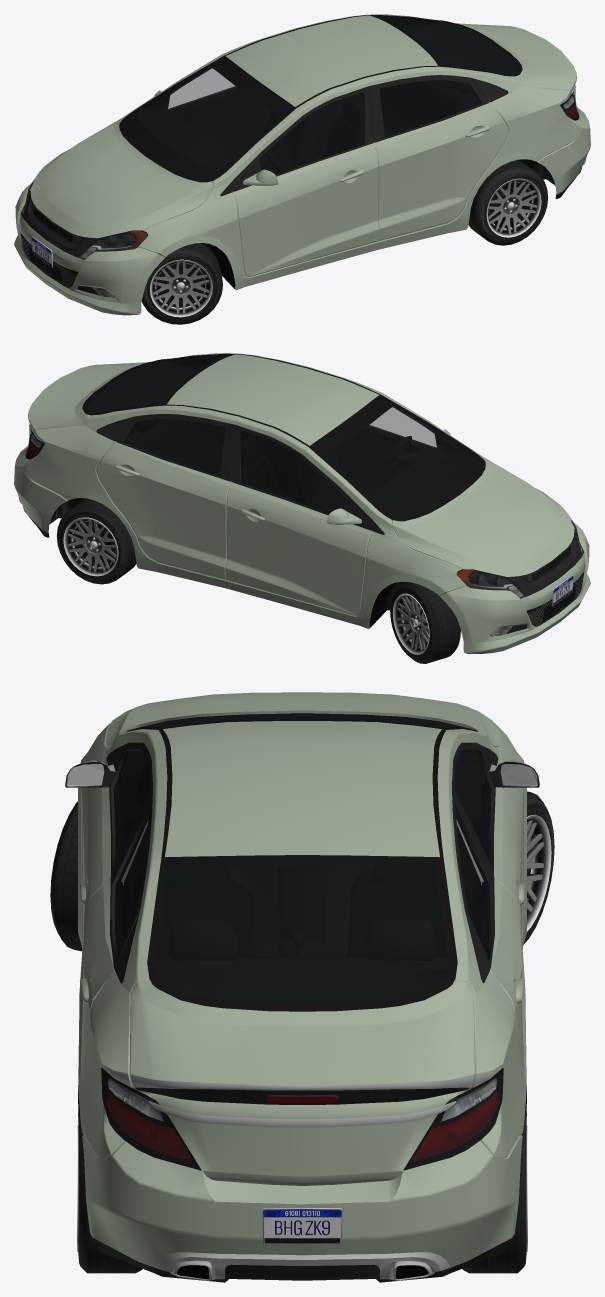
The model's file is generic_sedan_10_-_low_poly_model.glb.
3 renders of one model, top to bottom at view 1: azimuth 30°, elevation 25°; view 2: azimuth 150°, elevation 25°; view 3: azimuth 270°, elevation 25°, orthographic. The views are drawn at different scales.
Visible parts, largest first — view 1: Kiri10_body_Kiri10_body_0, Kiri10_interior_UCB_BOTTOM_LT_0, Kiri10_Bottom_UCB_BOTTOM_LT_0, Kiri10_glass_Body_UCB_GLASS_CLEAN_0, Kiri10_Windshield_UCB_GLASS_CLEAN_0, Kiri10_Wheel_RL_RB1c_Tire_0, Kiri10_Wheel_FL_RB1c_Tire_0, Kiri10_Glass_Rear_UCB_GLASS_CLEAN_0, Kiri10_Bumper_Front_Inner_UCB_BOTTOM_LT_0; view 2: Kiri10_body_Kiri10_body_0, Kiri10_interior_UCB_BOTTOM_LT_0, Kiri10_Bottom_UCB_BOTTOM_LT_0, Kiri10_glass_Body_UCB_GLASS_CLEAN_0, Kiri10_Windshield_UCB_GLASS_CLEAN_0, Kiri10_Wheel_RR_RB1c_Tire_0, Kiri10_Wheel_FR_RB1c_Tire_0, Kiri10_Glass_Rear_UCB_GLASS_CLEAN_0, Kiri10_Bumper_Front_Inner_UCB_BOTTOM_LT_0; view 3: Kiri10_body_Kiri10_body_0, Kiri10_interior_UCB_BOTTOM_LT_0, Kiri10_Glass_Rear_UCB_GLASS_CLEAN_0, Kiri10_Bottom_UCB_BOTTOM_LT_0, Kiri10_glass_Body_UCB_GLASS_CLEAN_0, Kiri10_Stoplights_thunderbolt96_Headlights_0, Kiri10_Bumper_Rear_Inner_UCB_BOTTOM_LT_0, Kiri10_Wheel_FL_RB1c_Tire_0, Kiri10_Wheel_FR_RB1c_Tire_0, Kiri10_Numberplate_Rear_Numberplates_Generic_USA_0, Kiri10_Wheel_RL_RB1c_Tire_0, Kiri10_Wheel_RR_RB1c_Tire_0 (+2 smaller).
Boxes of the visible parts, x1,y1,x2,y2 form: Kiri10_body_Kiri10_body_0: (14,14,590,315); Kiri10_interior_UCB_BOTTOM_LT_0: (137,16,522,258); Kiri10_Bottom_UCB_BOTTOM_LT_0: (20,15,586,288); Kiri10_glass_Body_UCB_GLASS_CLEAN_0: (168,69,480,174); Kiri10_Windshield_UCB_GLASS_CLEAN_0: (21,67,278,258); Kiri10_Wheel_RL_RB1c_Tire_0: (468,160,548,245); Kiri10_Wheel_FL_RB1c_Tire_0: (141,243,222,324); Kiri10_Glass_Rear_UCB_GLASS_CLEAN_0: (377,16,578,120); Kiri10_Bumper_Front_Inner_UCB_BOTTOM_LT_0: (20,190,114,297); Kiri10_body_Kiri10_body_0: (14,353,590,653); Kiri10_interior_UCB_BOTTOM_LT_0: (82,355,467,597); Kiri10_Bottom_UCB_BOTTOM_LT_0: (18,354,584,627); Kiri10_glass_Body_UCB_GLASS_CLEAN_0: (124,407,436,512); Kiri10_Windshield_UCB_GLASS_CLEAN_0: (326,406,583,597); Kiri10_Wheel_RR_RB1c_Tire_0: (56,498,136,584); Kiri10_Wheel_FR_RB1c_Tire_0: (390,582,460,663); Kiri10_Glass_Rear_UCB_GLASS_CLEAN_0: (25,355,228,458); Kiri10_Bumper_Front_Inner_UCB_BOTTOM_LT_0: (490,529,584,636); Kiri10_body_Kiri10_body_0: (76,692,528,1267); Kiri10_interior_UCB_BOTTOM_LT_0: (113,713,491,1088); Kiri10_Glass_Rear_UCB_GLASS_CLEAN_0: (101,861,503,1169); Kiri10_Bottom_UCB_BOTTOM_LT_0: (65,713,539,1280); Kiri10_glass_Body_UCB_GLASS_CLEAN_0: (114,750,490,953); Kiri10_Stoplights_thunderbolt96_Headlights_0: (101,1068,503,1169); Kiri10_Bumper_Rear_Inner_UCB_BOTTOM_LT_0: (92,1237,512,1282); Kiri10_Wheel_FL_RB1c_Tire_0: (50,801,82,951); Kiri10_Wheel_FR_RB1c_Tire_0: (523,791,554,944); Kiri10_Numberplate_Rear_Numberplates_Generic_USA_0: (262,1208,342,1244); Kiri10_Wheel_RL_RB1c_Tire_0: (77,1113,142,1273); Kiri10_Wheel_RR_RB1c_Tire_0: (462,1113,527,1273).
Size of the model in its own units: 4.36 by 1.47 by 1.81.
6 materials, 5 textured.
